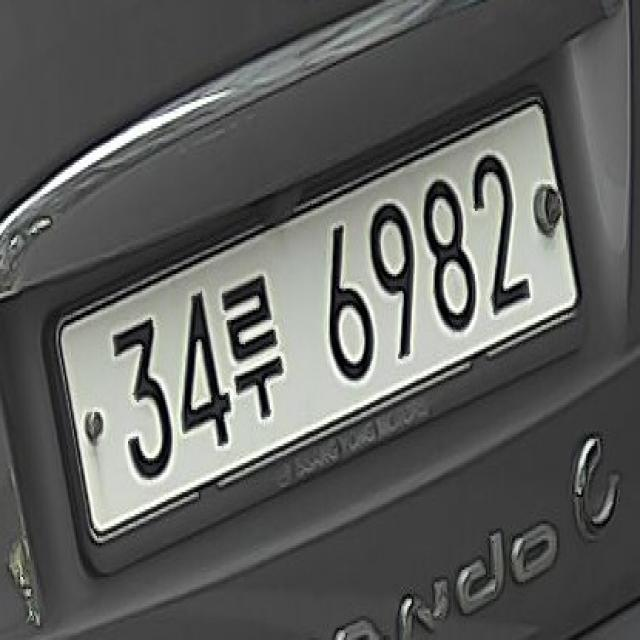2: (473, 146, 532, 315)
3: (108, 310, 176, 480)
4: (174, 293, 236, 451)
6: (328, 216, 375, 385)
8: (420, 170, 478, 337)
9: (367, 194, 421, 361)
license_plate: (41, 84, 588, 540)
lu: (220, 271, 286, 422)
